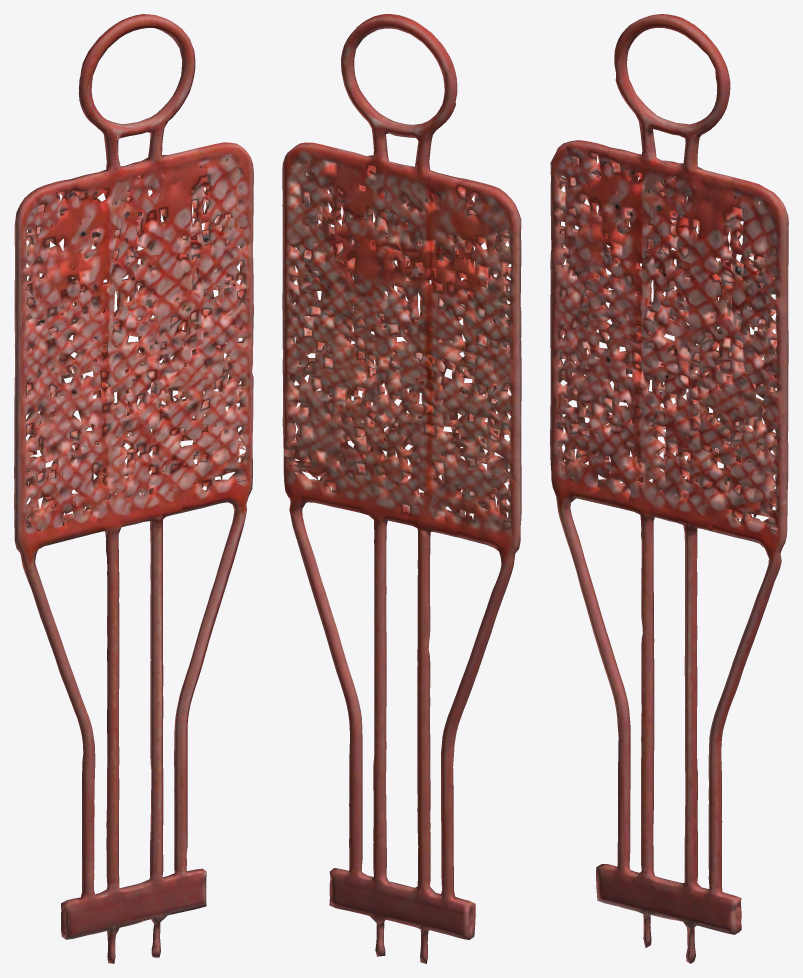
3 renders of one model, left to right at view 1: azimuth 30°, elevation 25°; view 2: azimuth 150°, elevation 25°; view 3: azimuth 330°, elevation 25°, orthographic.
Size of the model in its own units: 0.526 by 2 by 0.0291.
1 material, 1 textured.
